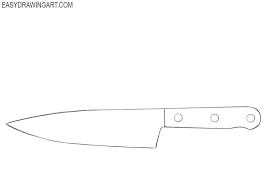Knife: (5, 105, 261, 149)
